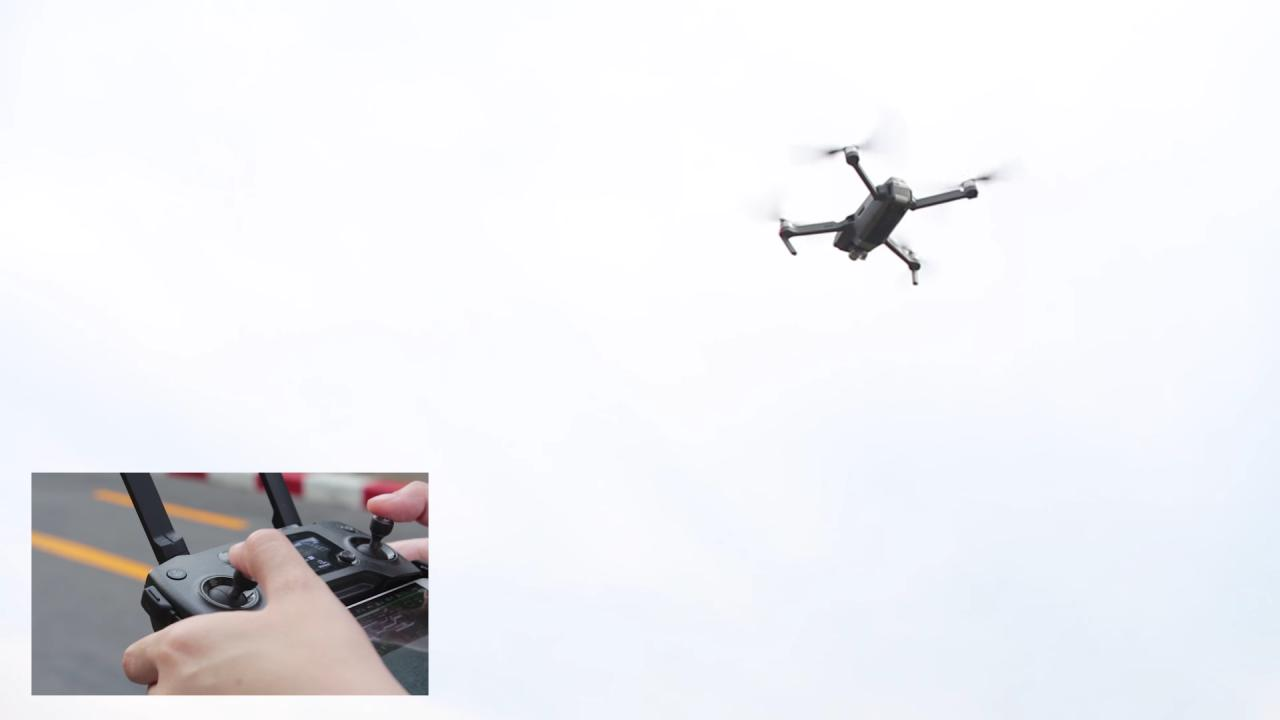Drone: (746, 108, 1040, 304)
